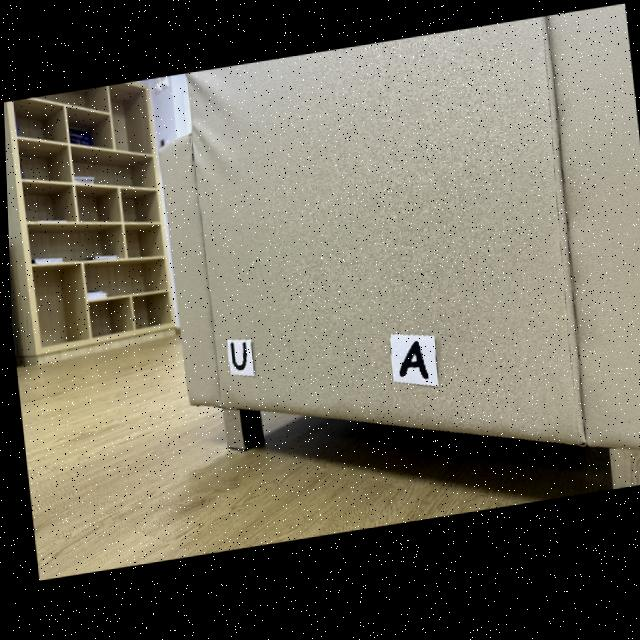A: (396, 348, 426, 386)
U: (228, 346, 244, 375)
